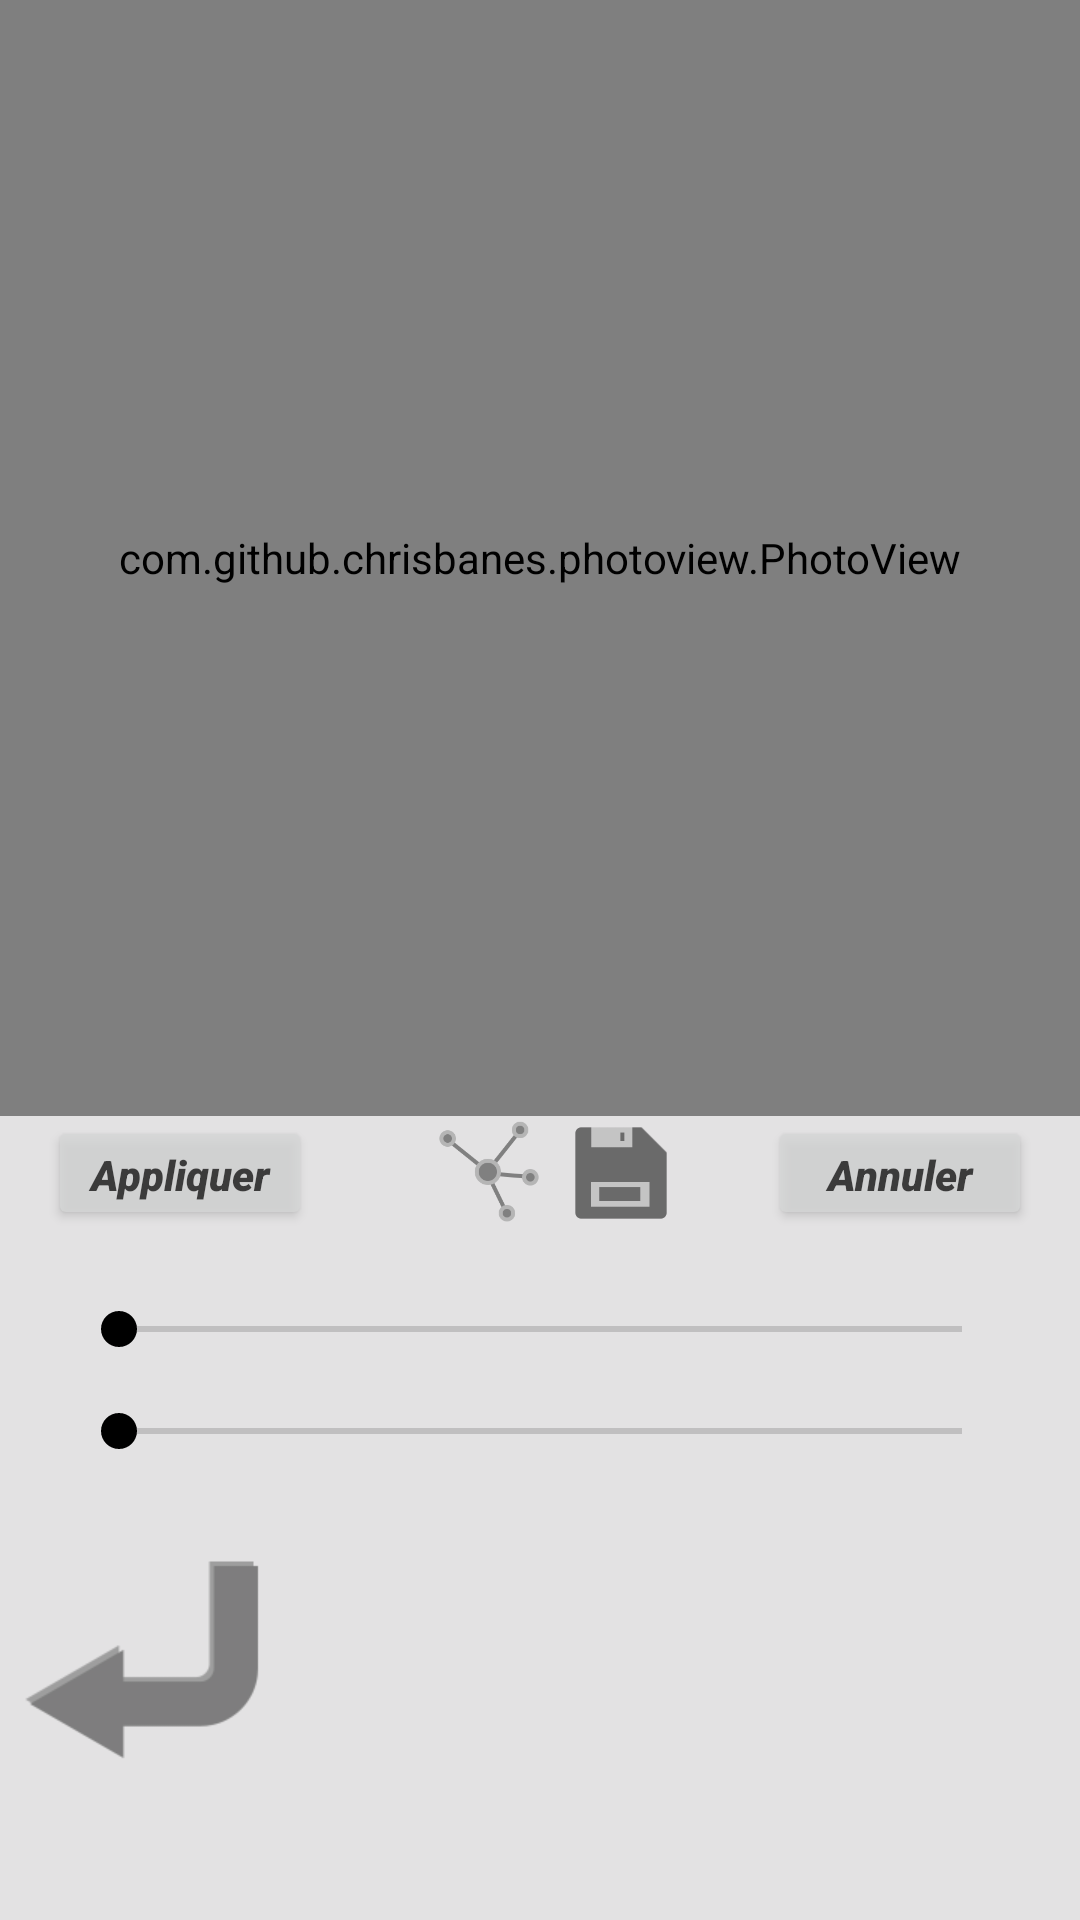

Where icons sit on this 1080px×1920px app screen, as {"x1": x1, "y1": y1, "x2": x2, "y2": y2}:
save: {"x1": 575, "y1": 1127, "x2": 667, "y2": 1219}
share: {"x1": 439, "y1": 1122, "x2": 539, "y2": 1221}
undo: {"x1": 26, "y1": 1561, "x2": 258, "y2": 1758}
